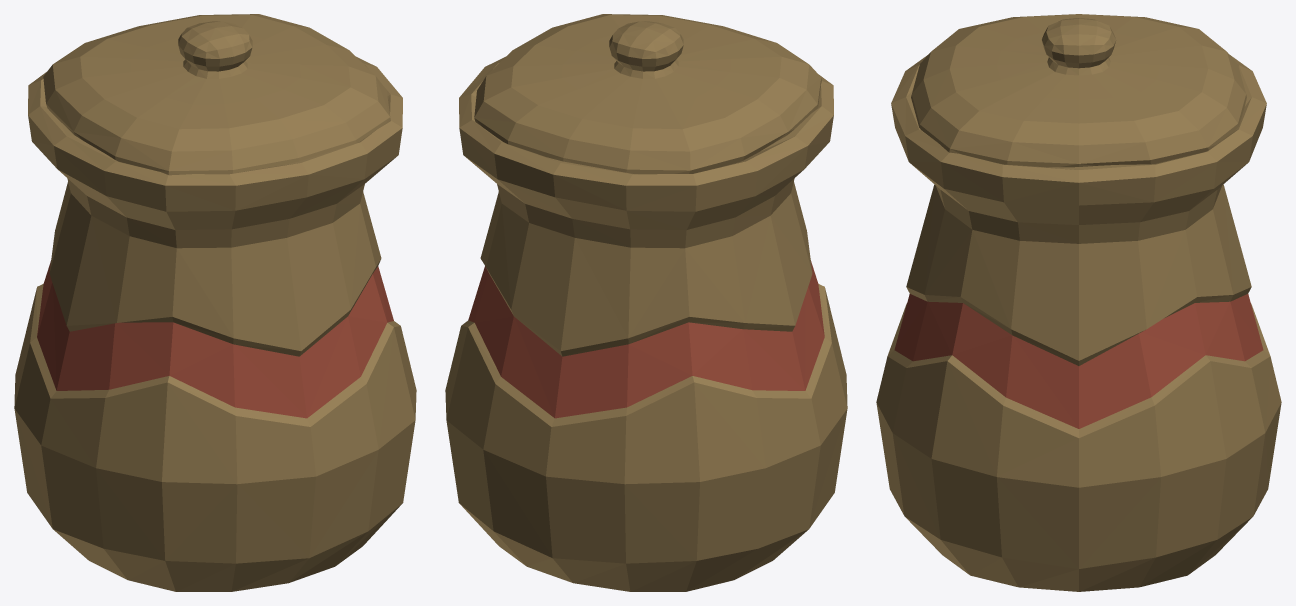
The model's file is Pot2.glb.
3 views of the same model, side by side, from view 1: azimuth 30°, elevation 25°; view 2: azimuth 150°, elevation 25°; view 3: azimuth 270°, elevation 25° (orthographic).
Visible parts, largest first — view 1: Pot2; view 2: Pot2; view 3: Pot2.
Boxes of the visible parts, bbox=[...] form: Pot2: bbox=[14, 14, 416, 591]; Pot2: bbox=[445, 14, 847, 591]; Pot2: bbox=[876, 14, 1281, 591].
Bounding box in the file's own units: 0.4633 × 0.6373 × 0.4633.
